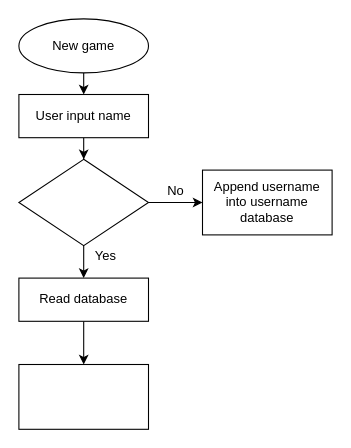
The diagram is 351 pixels wide and 448 high, and some of its shapes have lost their labels. The centre of each missing label's shape, as x and y in pixels:
"Draw file from database" goes at (83,396).
"If username in database" goes at (83,202).
